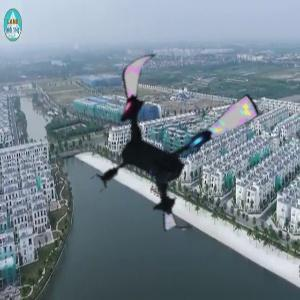drone: (76, 44, 261, 229)
